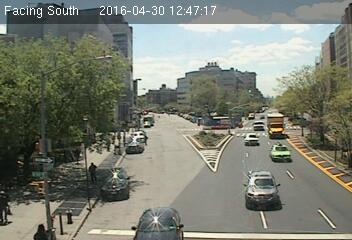neg: (37, 193, 67, 234), (194, 149, 220, 184), (112, 166, 135, 197), (23, 138, 46, 169), (316, 142, 334, 166), (130, 73, 143, 90), (189, 116, 201, 132), (146, 114, 155, 126), (164, 107, 173, 118), (294, 124, 302, 135)
pos: (82, 161, 103, 190), (71, 148, 84, 164), (141, 132, 152, 146), (103, 139, 113, 151)
